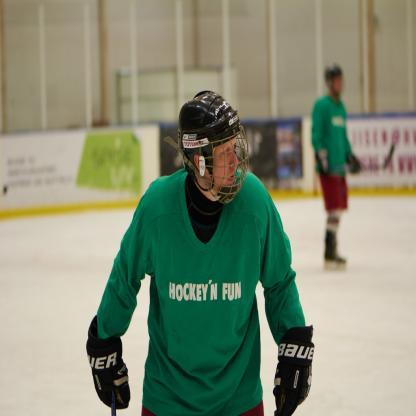Helmet: (176, 96, 249, 212)
